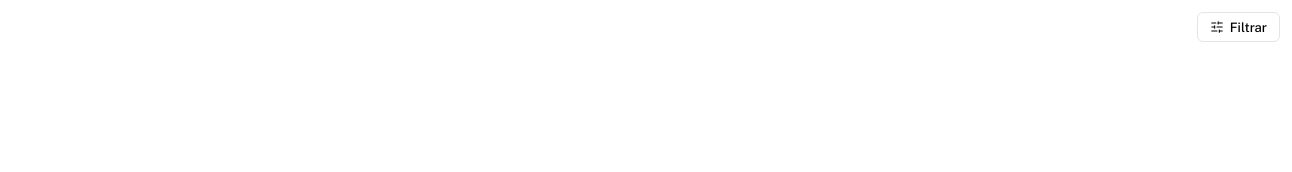
FiltrosLista › el panel arranca cerrado y se abre con Filtrar
The width and height of the screenshot is (1292, 172).
Expected: the field labelled "Pago" is not shown
Click the button "Filtrar" at (1238, 27), box x1=1197 y1=12 x2=1280 y2=42
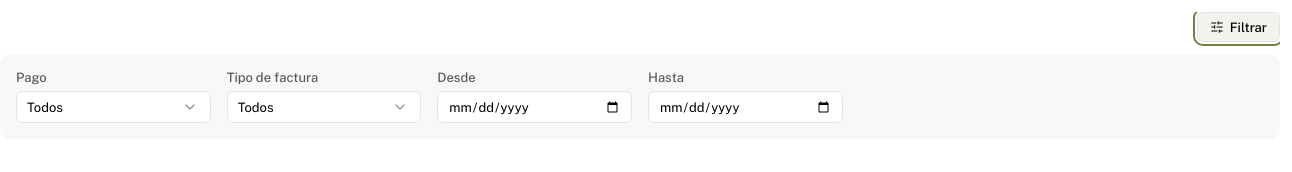
Expected: the dropdown labelled "Pago" is shown, x1=16 y1=91 x2=211 y2=123
